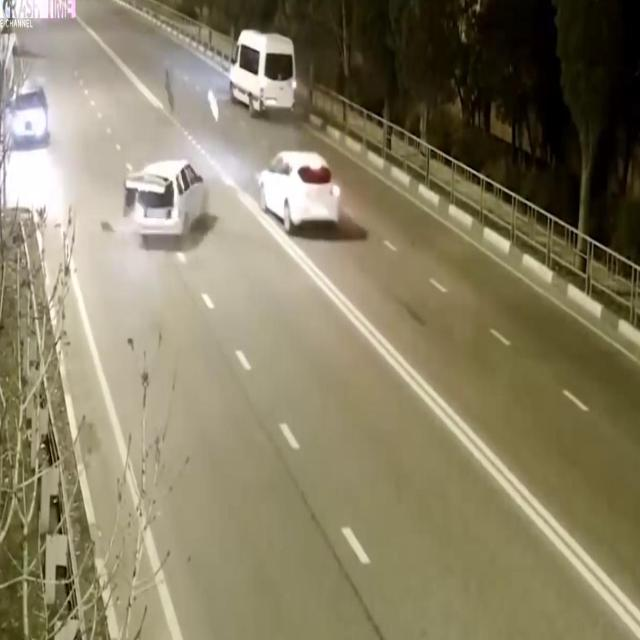accident: (116, 128, 218, 272)
